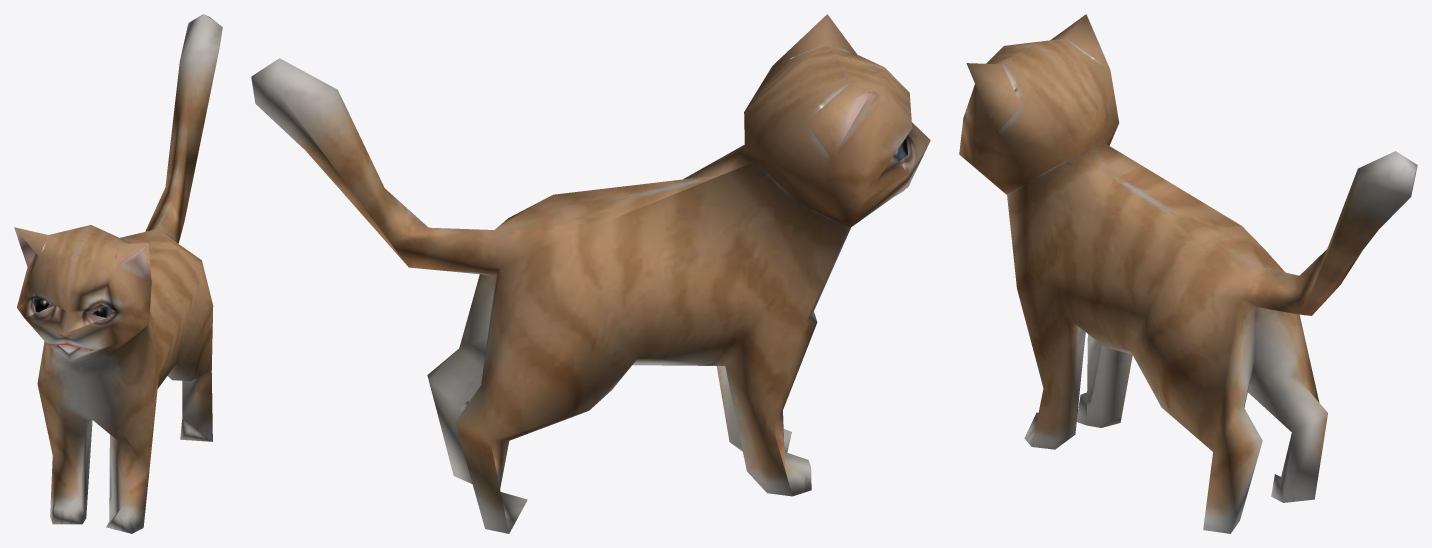
Rendered from Orange_cat.glb.
3 renders of one model, left to right at view 1: azimuth 30°, elevation 25°; view 2: azimuth 150°, elevation 25°; view 3: azimuth 270°, elevation 25°, orthographic. The views are drawn at different scales.
Parts seen in each view (by area): view 1: 3d66-Editable_Poly-21792070-001; view 2: 3d66-Editable_Poly-21792070-001; view 3: 3d66-Editable_Poly-21792070-001.
Boxes of the visible parts, box(x1,y1,x2,y2) form: 3d66-Editable_Poly-21792070-001: box(14, 14, 222, 533); 3d66-Editable_Poly-21792070-001: box(251, 14, 930, 533); 3d66-Editable_Poly-21792070-001: box(959, 14, 1417, 533).
Size of the model in its own units: 0.7303 by 0.7167 by 0.7082.
1 material, 1 textured.
